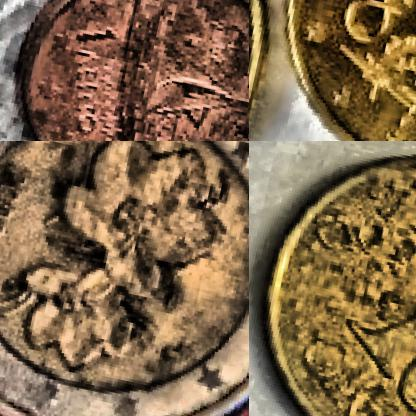coin: (0, 141, 248, 415), (249, 141, 415, 415), (0, 0, 248, 140), (249, 0, 415, 140)
